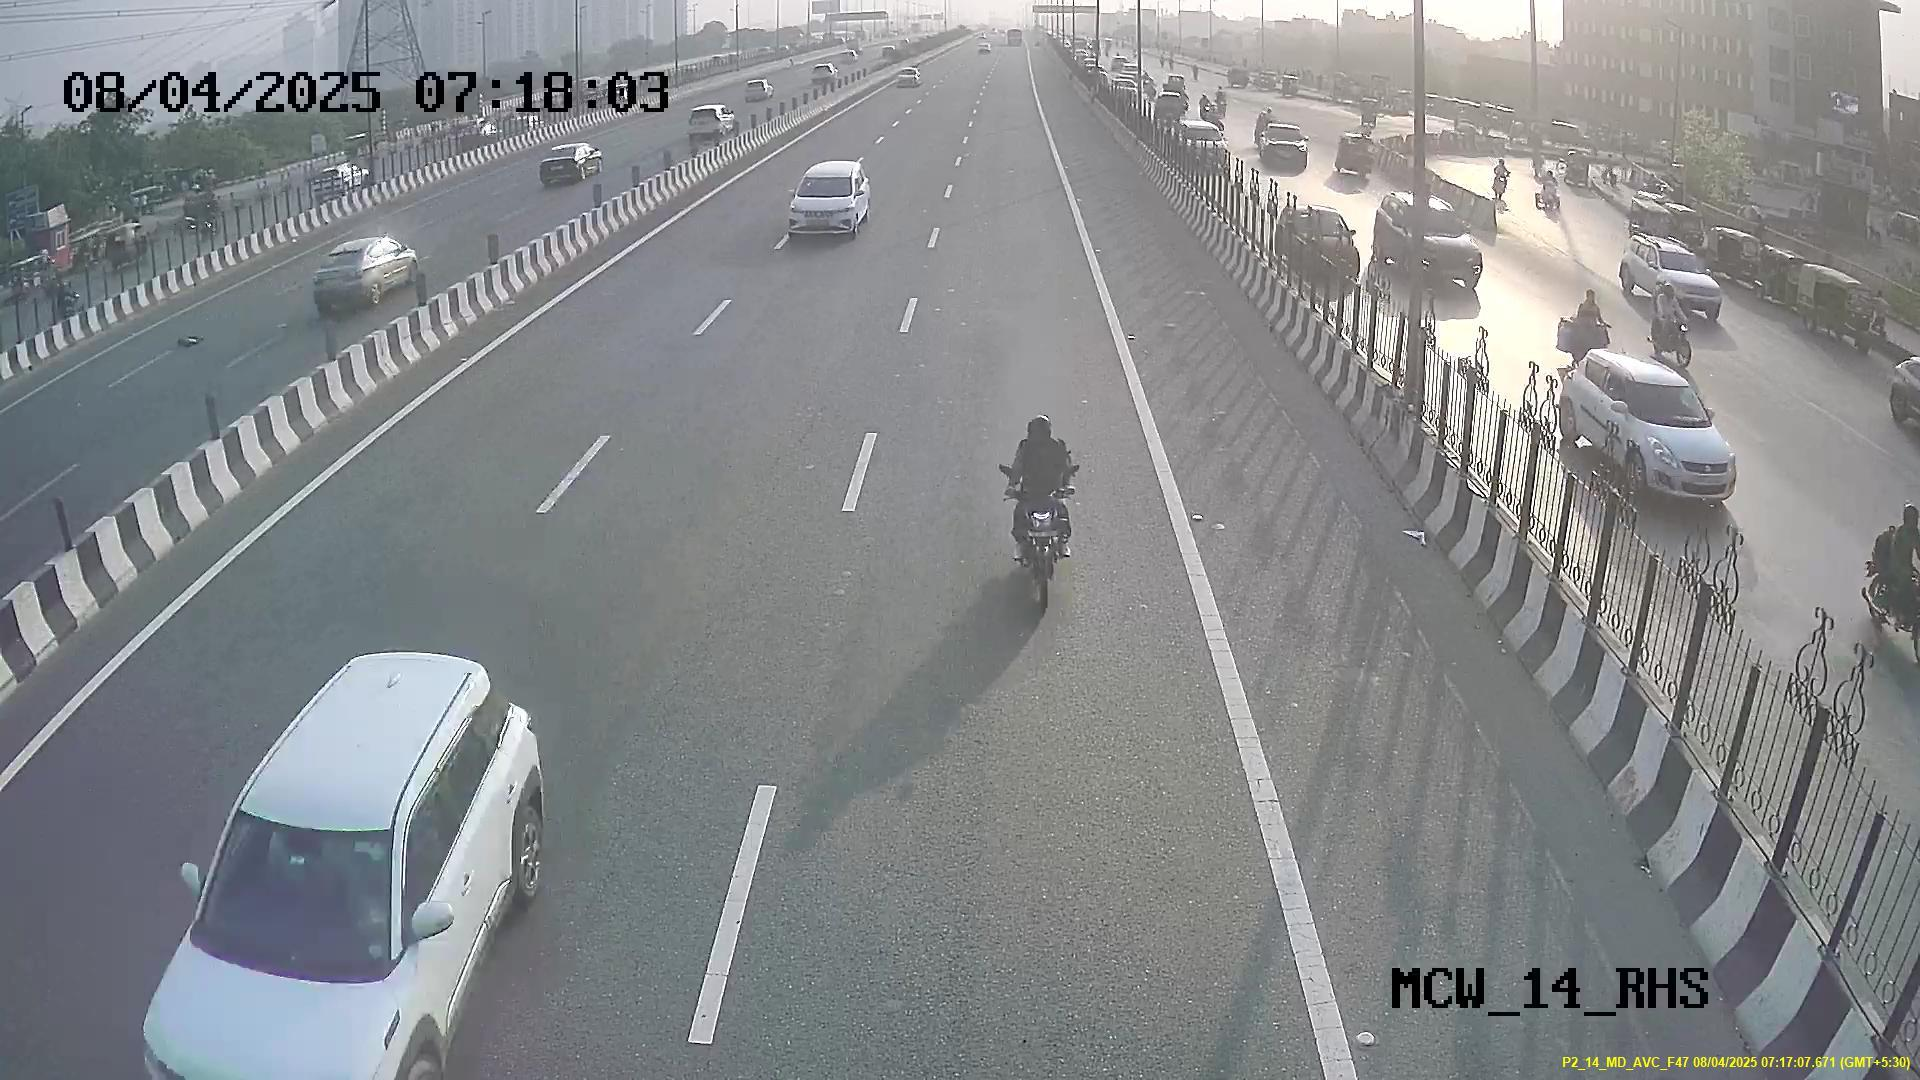bike: (998, 394, 1083, 609)
